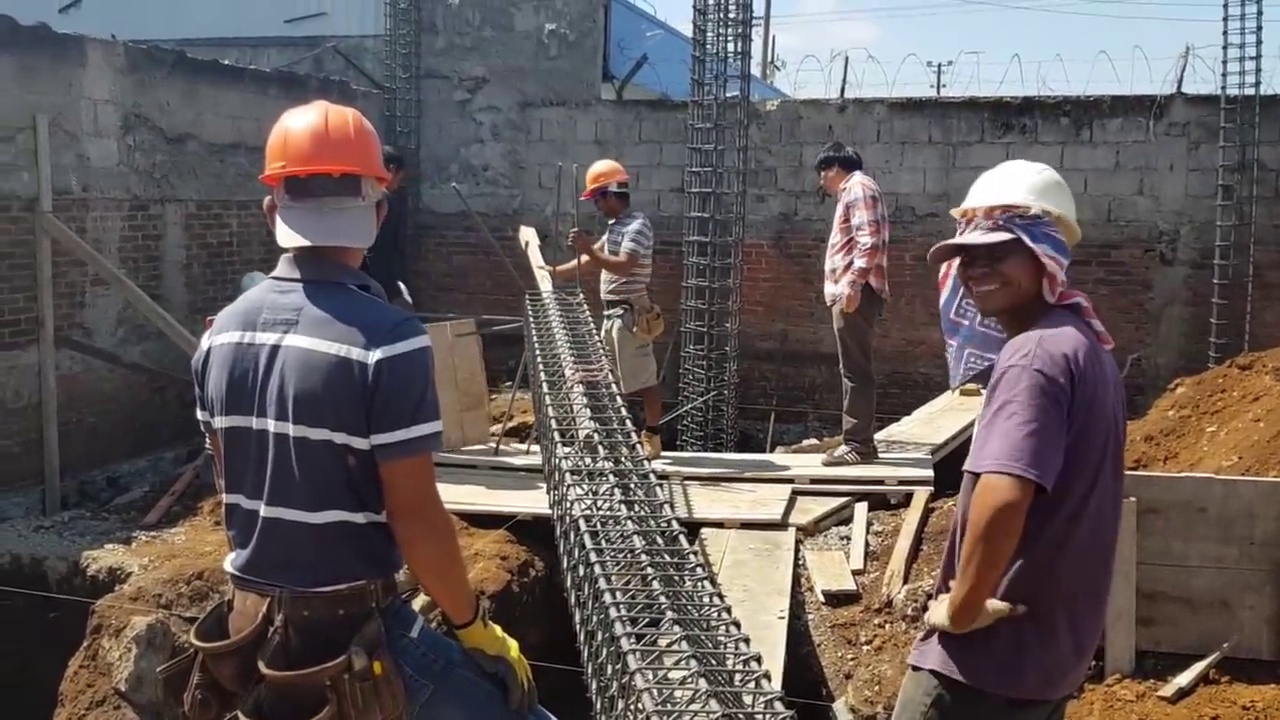helmet: (255, 95, 396, 189), (944, 153, 1087, 243), (575, 161, 629, 202)
helmet-off: (816, 145, 865, 195)
helmet-on: (929, 157, 1085, 332), (255, 95, 396, 281), (576, 162, 631, 226)
person: (189, 94, 536, 720), (898, 154, 1127, 720), (540, 160, 663, 462), (811, 147, 886, 469)
